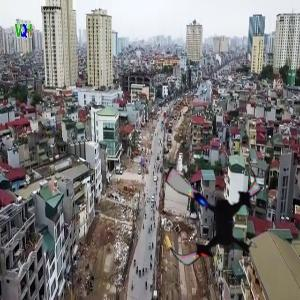drone: (151, 153, 274, 276)
